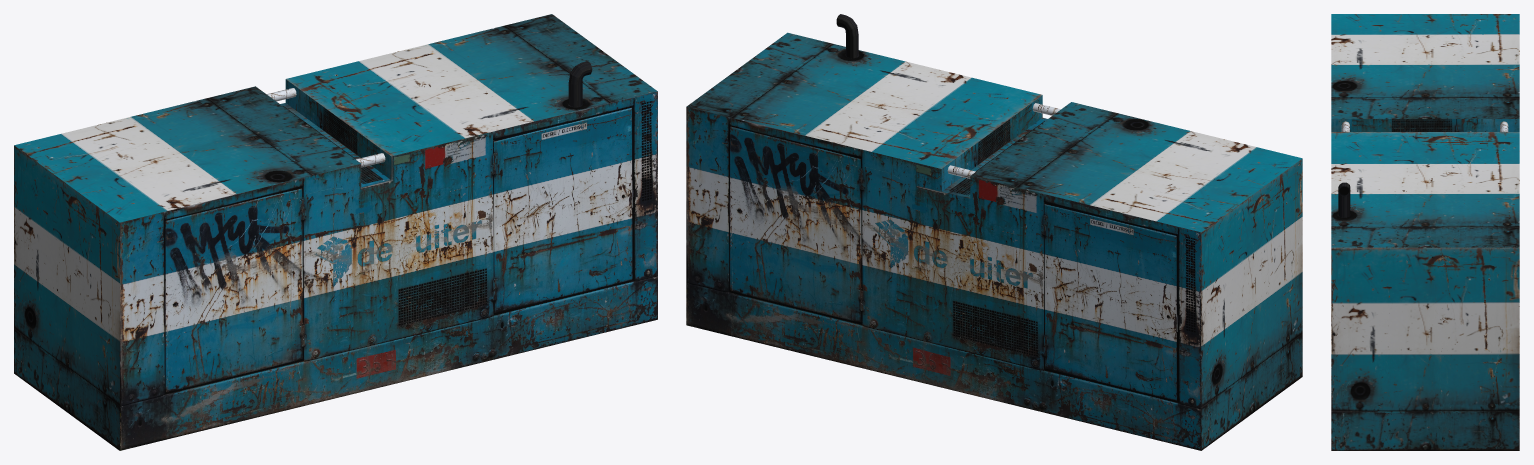
File: MáyPhátĐiện.fbx
3 views of the same model, side by side, from view 1: azimuth 30°, elevation 25°; view 2: azimuth 150°, elevation 25°; view 3: azimuth 270°, elevation 25° (orthographic). The views are drawn at different scales.
Visible parts, largest first — view 1: TexturesCom_MachineryHeavy0074_1_M; view 2: TexturesCom_MachineryHeavy0074_1_M; view 3: TexturesCom_MachineryHeavy0074_1_M.
Part boxes in pixels (left/top/right/bottom): TexturesCom_MachineryHeavy0074_1_M: left=14, top=14, right=657, bottom=450; TexturesCom_MachineryHeavy0074_1_M: left=686, top=14, right=1302, bottom=450; TexturesCom_MachineryHeavy0074_1_M: left=1331, top=14, right=1519, bottom=450.
Bounding box in the file's own units: 223 × 106 × 76.03.
Materials: 2 (2 with a texture image).
